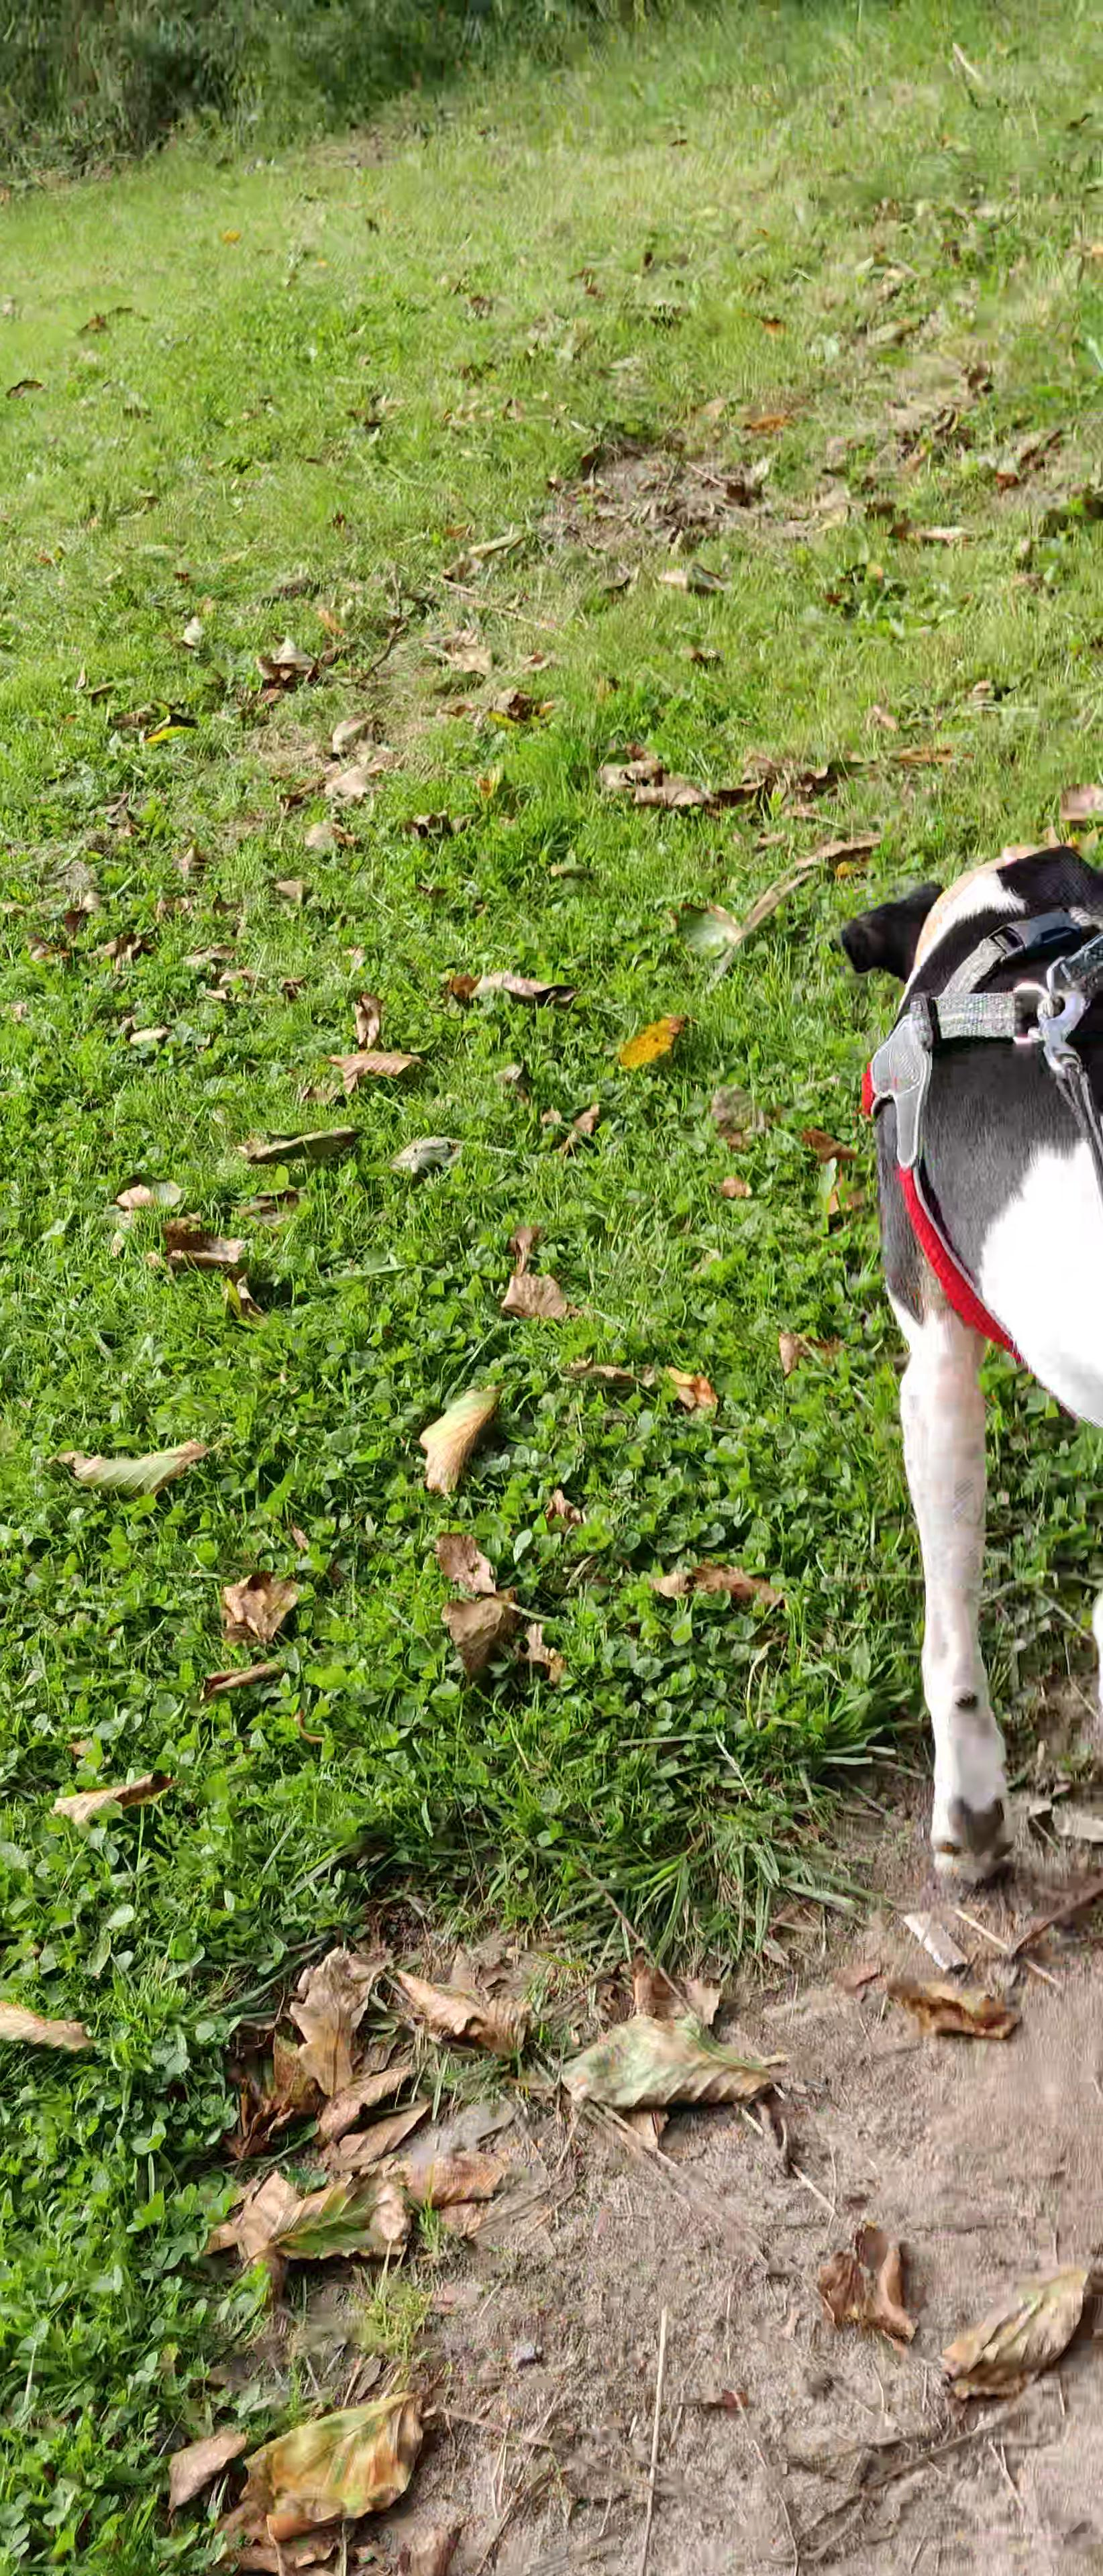Dog: (822, 823, 1103, 1902)
